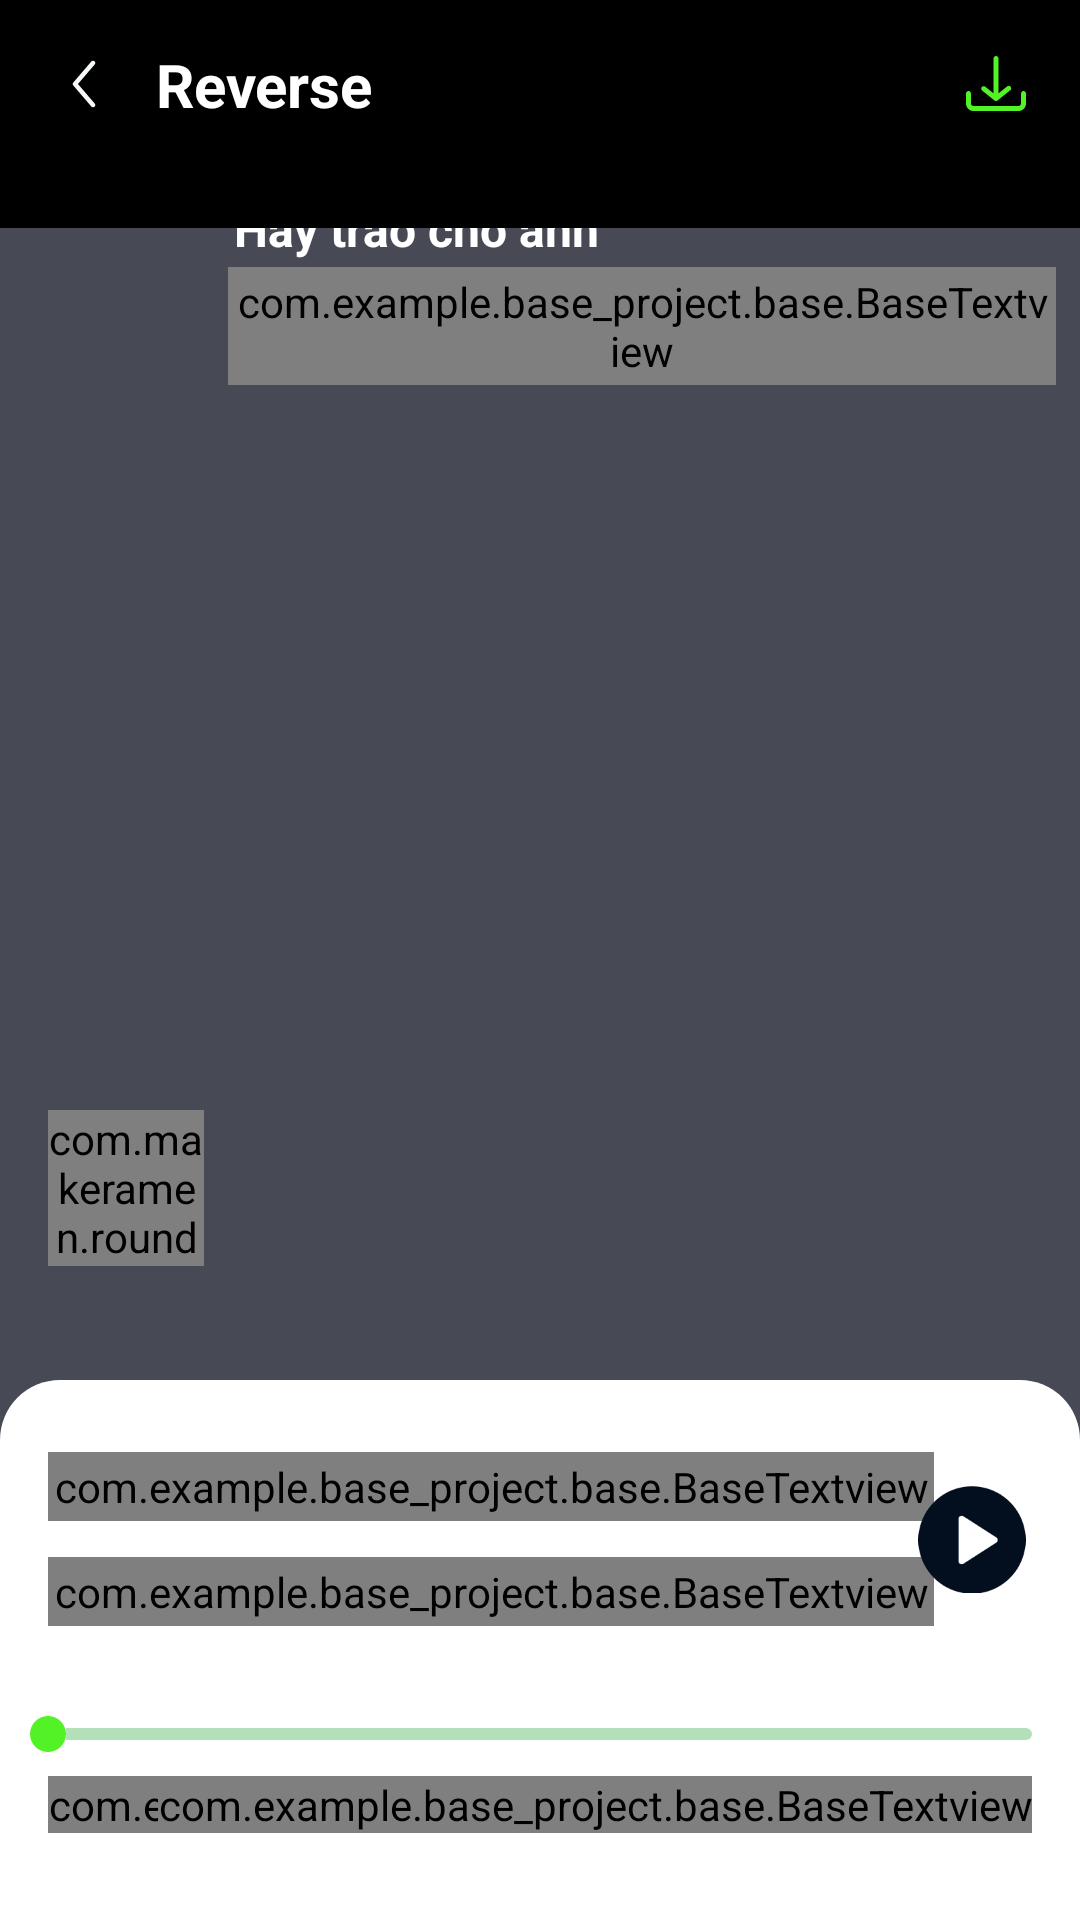

Icons on this 1080 x 1920 Android screen, each with the point to tap as (x=x, y=y):
back: (x=84, y=84)
download: (x=996, y=83)
